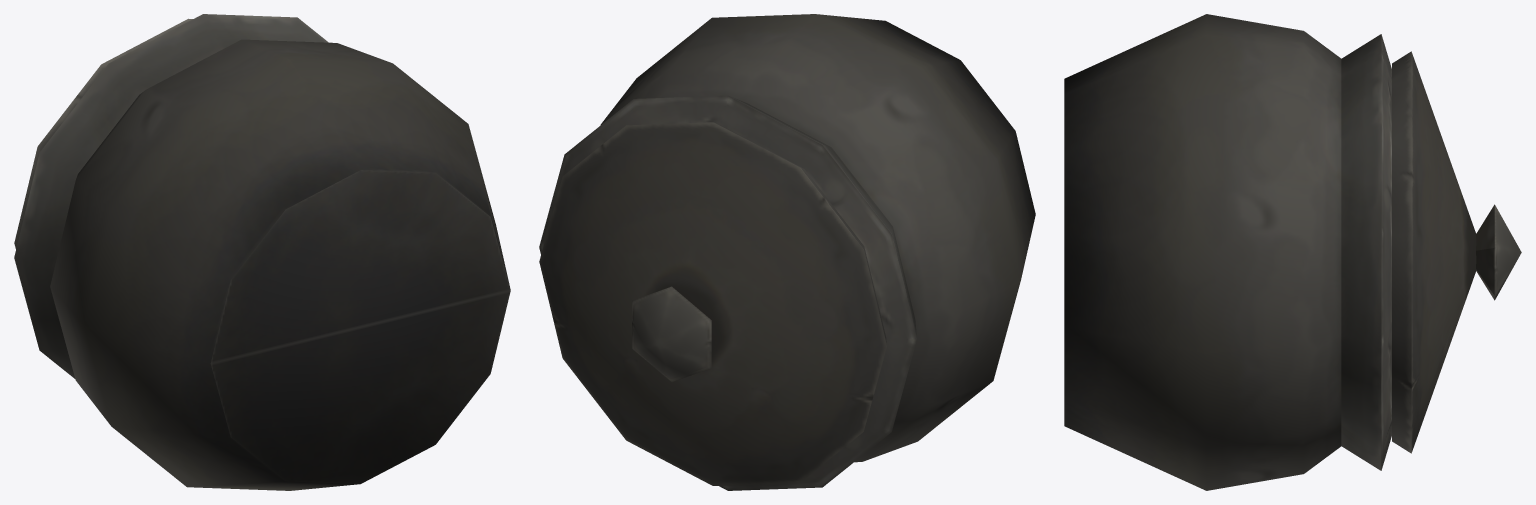
The model's file is Food_bowler.fbx.
3 views of the same model, side by side, from view 1: azimuth 30°, elevation 25°; view 2: azimuth 150°, elevation 25°; view 3: azimuth 270°, elevation 25° (orthographic).
Visible parts, largest first — view 1: Food_bowler; view 2: Food_bowler; view 3: Food_bowler.
Part boxes in pixels (left/top/right/bottom): Food_bowler: left=14, top=14, right=510, bottom=490; Food_bowler: left=539, top=14, right=1035, bottom=490; Food_bowler: left=1064, top=14, right=1521, bottom=490.
Bounding box in the file's own units: 0.3394 × 0.3394 × 0.3243.
